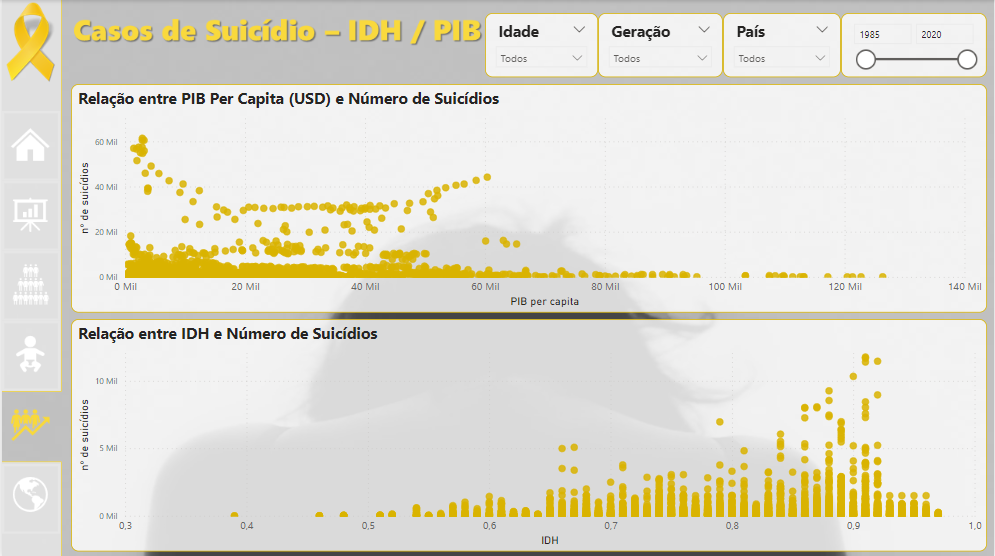

The page's visual inventory and layout, read from the dashboard file:
{"tool":"powerbi","page":{"name":"IDH_PIB","canvas":[1280,720],"ordinal":4},"visuals":[{"type":"scatterChart","title":"Relação entre IDH e Número de Suicídios","fields":{"X":["master.IDH"],"Y":["master.suicides_no"]},"box":[89.2,411.8,1181.8,299.6],"z":0},{"type":"scatterChart","title":"Relação entre PIB Per Capita (USD) e Número de Suicídios","fields":{"X":["master.gdp_per_capita ($)"],"Y":["master.suicides_no"]},"box":[89.2,108.4,1181.8,294.5],"z":1000},{"type":"slicer","fields":{"Values":["master.year"]},"box":[1082.6,16.8,188.4,82.6],"z":2000},{"type":"slicer","fields":{"Values":["master.country - tratada"]},"box":[930.3,16.8,152.3,82.6],"z":3000},{"type":"slicer","fields":{"Values":["master.generation"]},"box":[769,16.8,161.3,82.6],"z":4000},{"type":"slicer","fields":{"Values":["master.age"]},"box":[623.2,16.8,145.8,82.6],"z":5000},{"type":"actionButton","box":[0,143.2,74.8,90.3],"z":6000},{"type":"actionButton","box":[0,233.5,74.8,90.3],"z":7000},{"type":"actionButton","box":[0,323.9,74.8,90.3],"z":8000},{"type":"actionButton","box":[0,413.9,75.1,90],"z":9000},{"type":"actionButton","box":[0,598.7,74.8,90.3],"z":10000}]}

Visuals, with their boxes in screenshot pixels (x1, y1, x2, y2):
"Relação entre IDH e Número de Suicídios" scatterChart: x1=81, y1=322, x2=983, y2=551
"Relação entre PIB Per Capita (USD) e Número de Suicídios" scatterChart: x1=81, y1=90, x2=983, y2=315
slicer - master.year: x1=839, y1=21, x2=983, y2=84
slicer - master.country - tratada: x1=723, y1=21, x2=839, y2=84
slicer - master.generation: x1=600, y1=21, x2=723, y2=84
slicer - master.age: x1=488, y1=21, x2=600, y2=84
actionButton: x1=13, y1=117, x2=70, y2=186
actionButton: x1=13, y1=186, x2=70, y2=255
actionButton: x1=13, y1=255, x2=70, y2=324
actionButton: x1=13, y1=324, x2=70, y2=392
actionButton: x1=13, y1=465, x2=70, y2=534
